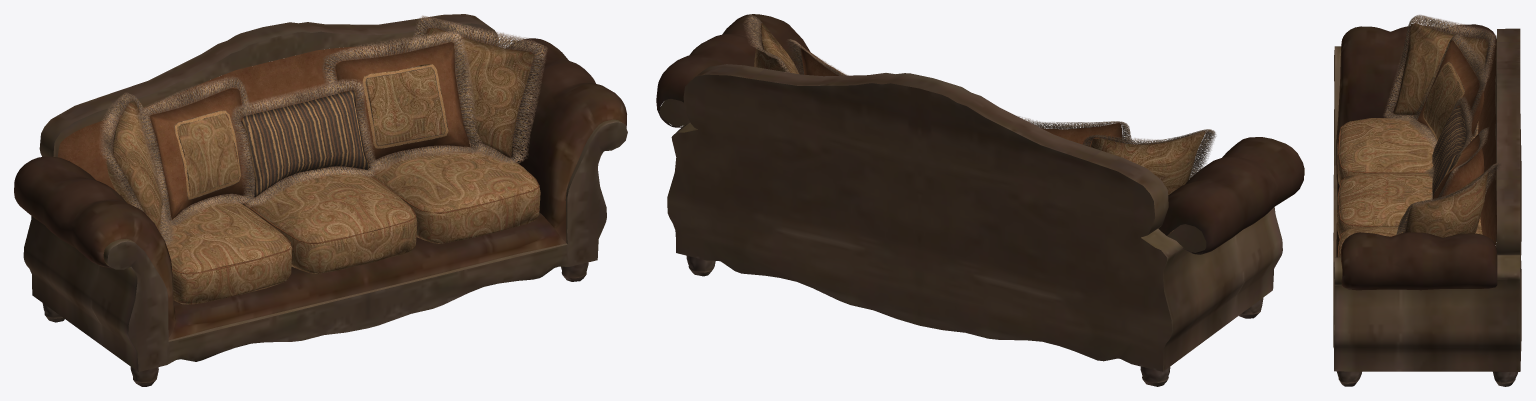
File: leather_wood_sofa.lod1.glb
3 views of the same model, side by side, from view 1: azimuth 30°, elevation 25°; view 2: azimuth 150°, elevation 25°; view 3: azimuth 270°, elevation 25° (orthographic). The views are drawn at different scales.
Parts seen in each view (by area): view 1: Frame, Paisley, Fringe, Brown, Stripes, Frame_Fabric; view 2: Frame, Paisley, Fringe, Brown; view 3: Frame, Paisley, Fringe, Brown, Frame_Fabric, Stripes.
Part boxes in pixels (box(x1,y1,x2,y2)): Frame: box(14, 14, 627, 386); Paisley: box(106, 28, 540, 304); Fringe: box(99, 15, 547, 246); Brown: box(150, 42, 539, 274); Stripes: box(174, 64, 448, 199); Frame_Fabric: box(57, 34, 494, 190); Frame: box(656, 14, 1304, 386); Paisley: box(754, 23, 1205, 232); Fringe: box(743, 14, 1216, 179); Brown: box(800, 46, 1171, 235); Frame: box(1333, 24, 1521, 386); Paisley: box(1337, 23, 1488, 257); Fringe: box(1383, 15, 1500, 234); Brown: box(1337, 40, 1484, 256); Frame_Fabric: box(1478, 39, 1496, 244); Stripes: box(1423, 61, 1473, 197).
Bounding box in the file's own units: 2.73 × 1.12 × 0.9225.
6 materials, 6 textured.
